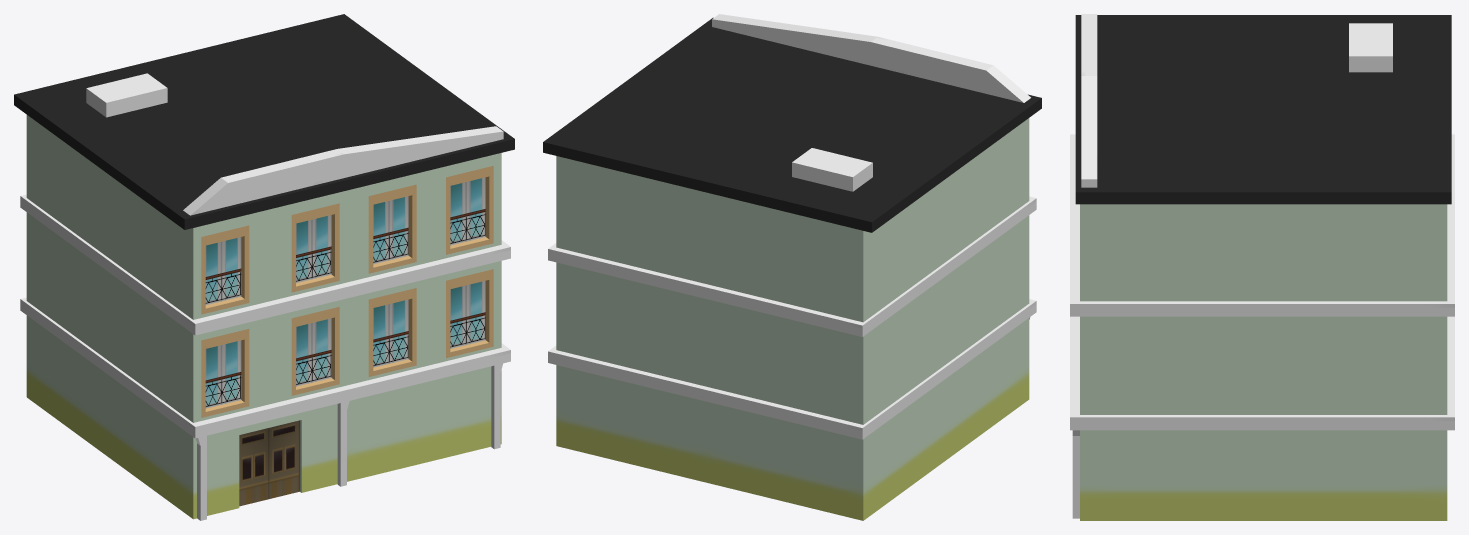
File: French Balcony House 4.fbx
The picture shows the model from 3 angles, left to right: view 1: azimuth 30°, elevation 25°; view 2: azimuth 150°, elevation 25°; view 3: azimuth 270°, elevation 25°; orthographic projection. The views are drawn at different scales.
Parts seen in each view (by area): view 1: French Balcony House 4; view 2: French Balcony House 4; view 3: French Balcony House 4.
Part boxes in pixels (left/top/right/bottom): French Balcony House 4: left=14, top=14, right=514, bottom=520; French Balcony House 4: left=543, top=14, right=1041, bottom=520; French Balcony House 4: left=1070, top=14, right=1454, bottom=520.
Bounding box in the file's own units: 3.96 × 3.75 × 3.63.
